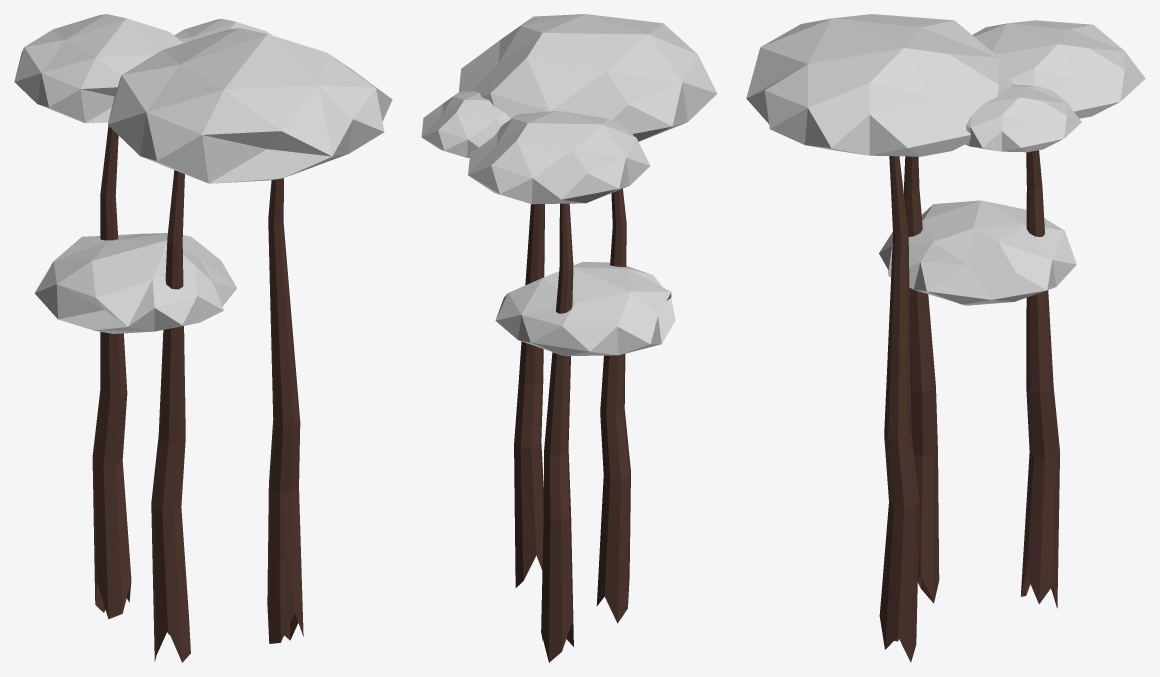
File: trees04.fbx
3 views of the same model, side by side, from view 1: azimuth 30°, elevation 25°; view 2: azimuth 150°, elevation 25°; view 3: azimuth 270°, elevation 25° (orthographic). The views are drawn at different scales.
Parts seen in each view (by area): view 1: Icosphere.007; view 2: Icosphere.007; view 3: Icosphere.007.
Boxes of the visible parts, left/top/right/bottom form: Icosphere.007: left=14, top=14, right=392, bottom=662; Icosphere.007: left=421, top=14, right=717, bottom=662; Icosphere.007: left=746, top=14, right=1145, bottom=662.
Size of the model in its own units: 3.72 by 8.3 by 4.98.
